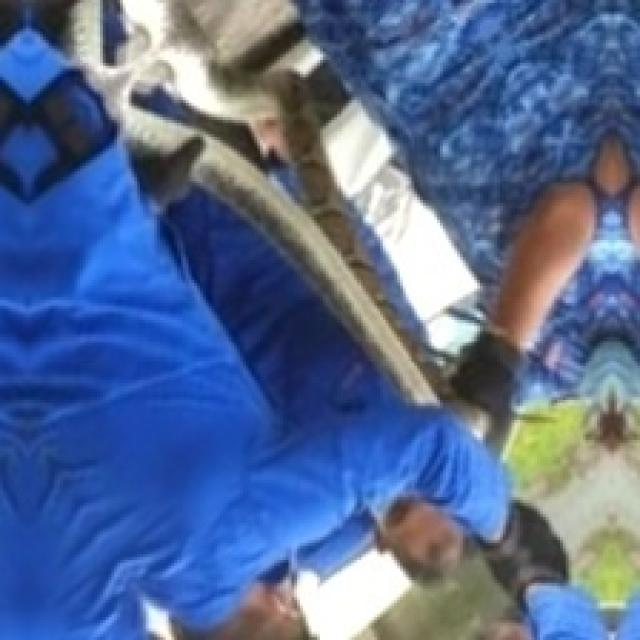reticulated python: (124, 108, 439, 404), (167, 0, 400, 328)
